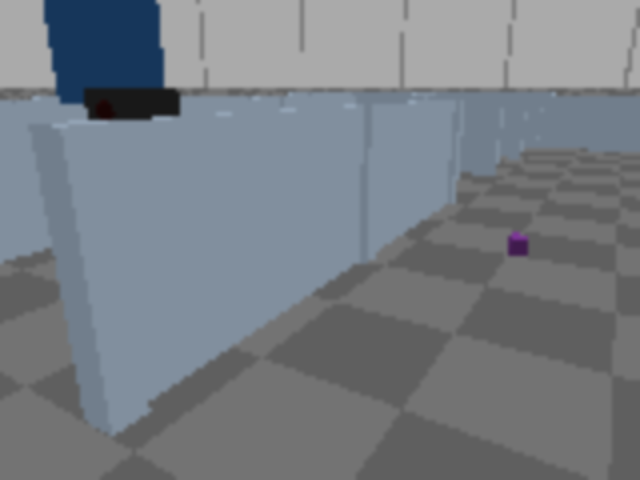puck: (508, 234, 528, 255)
